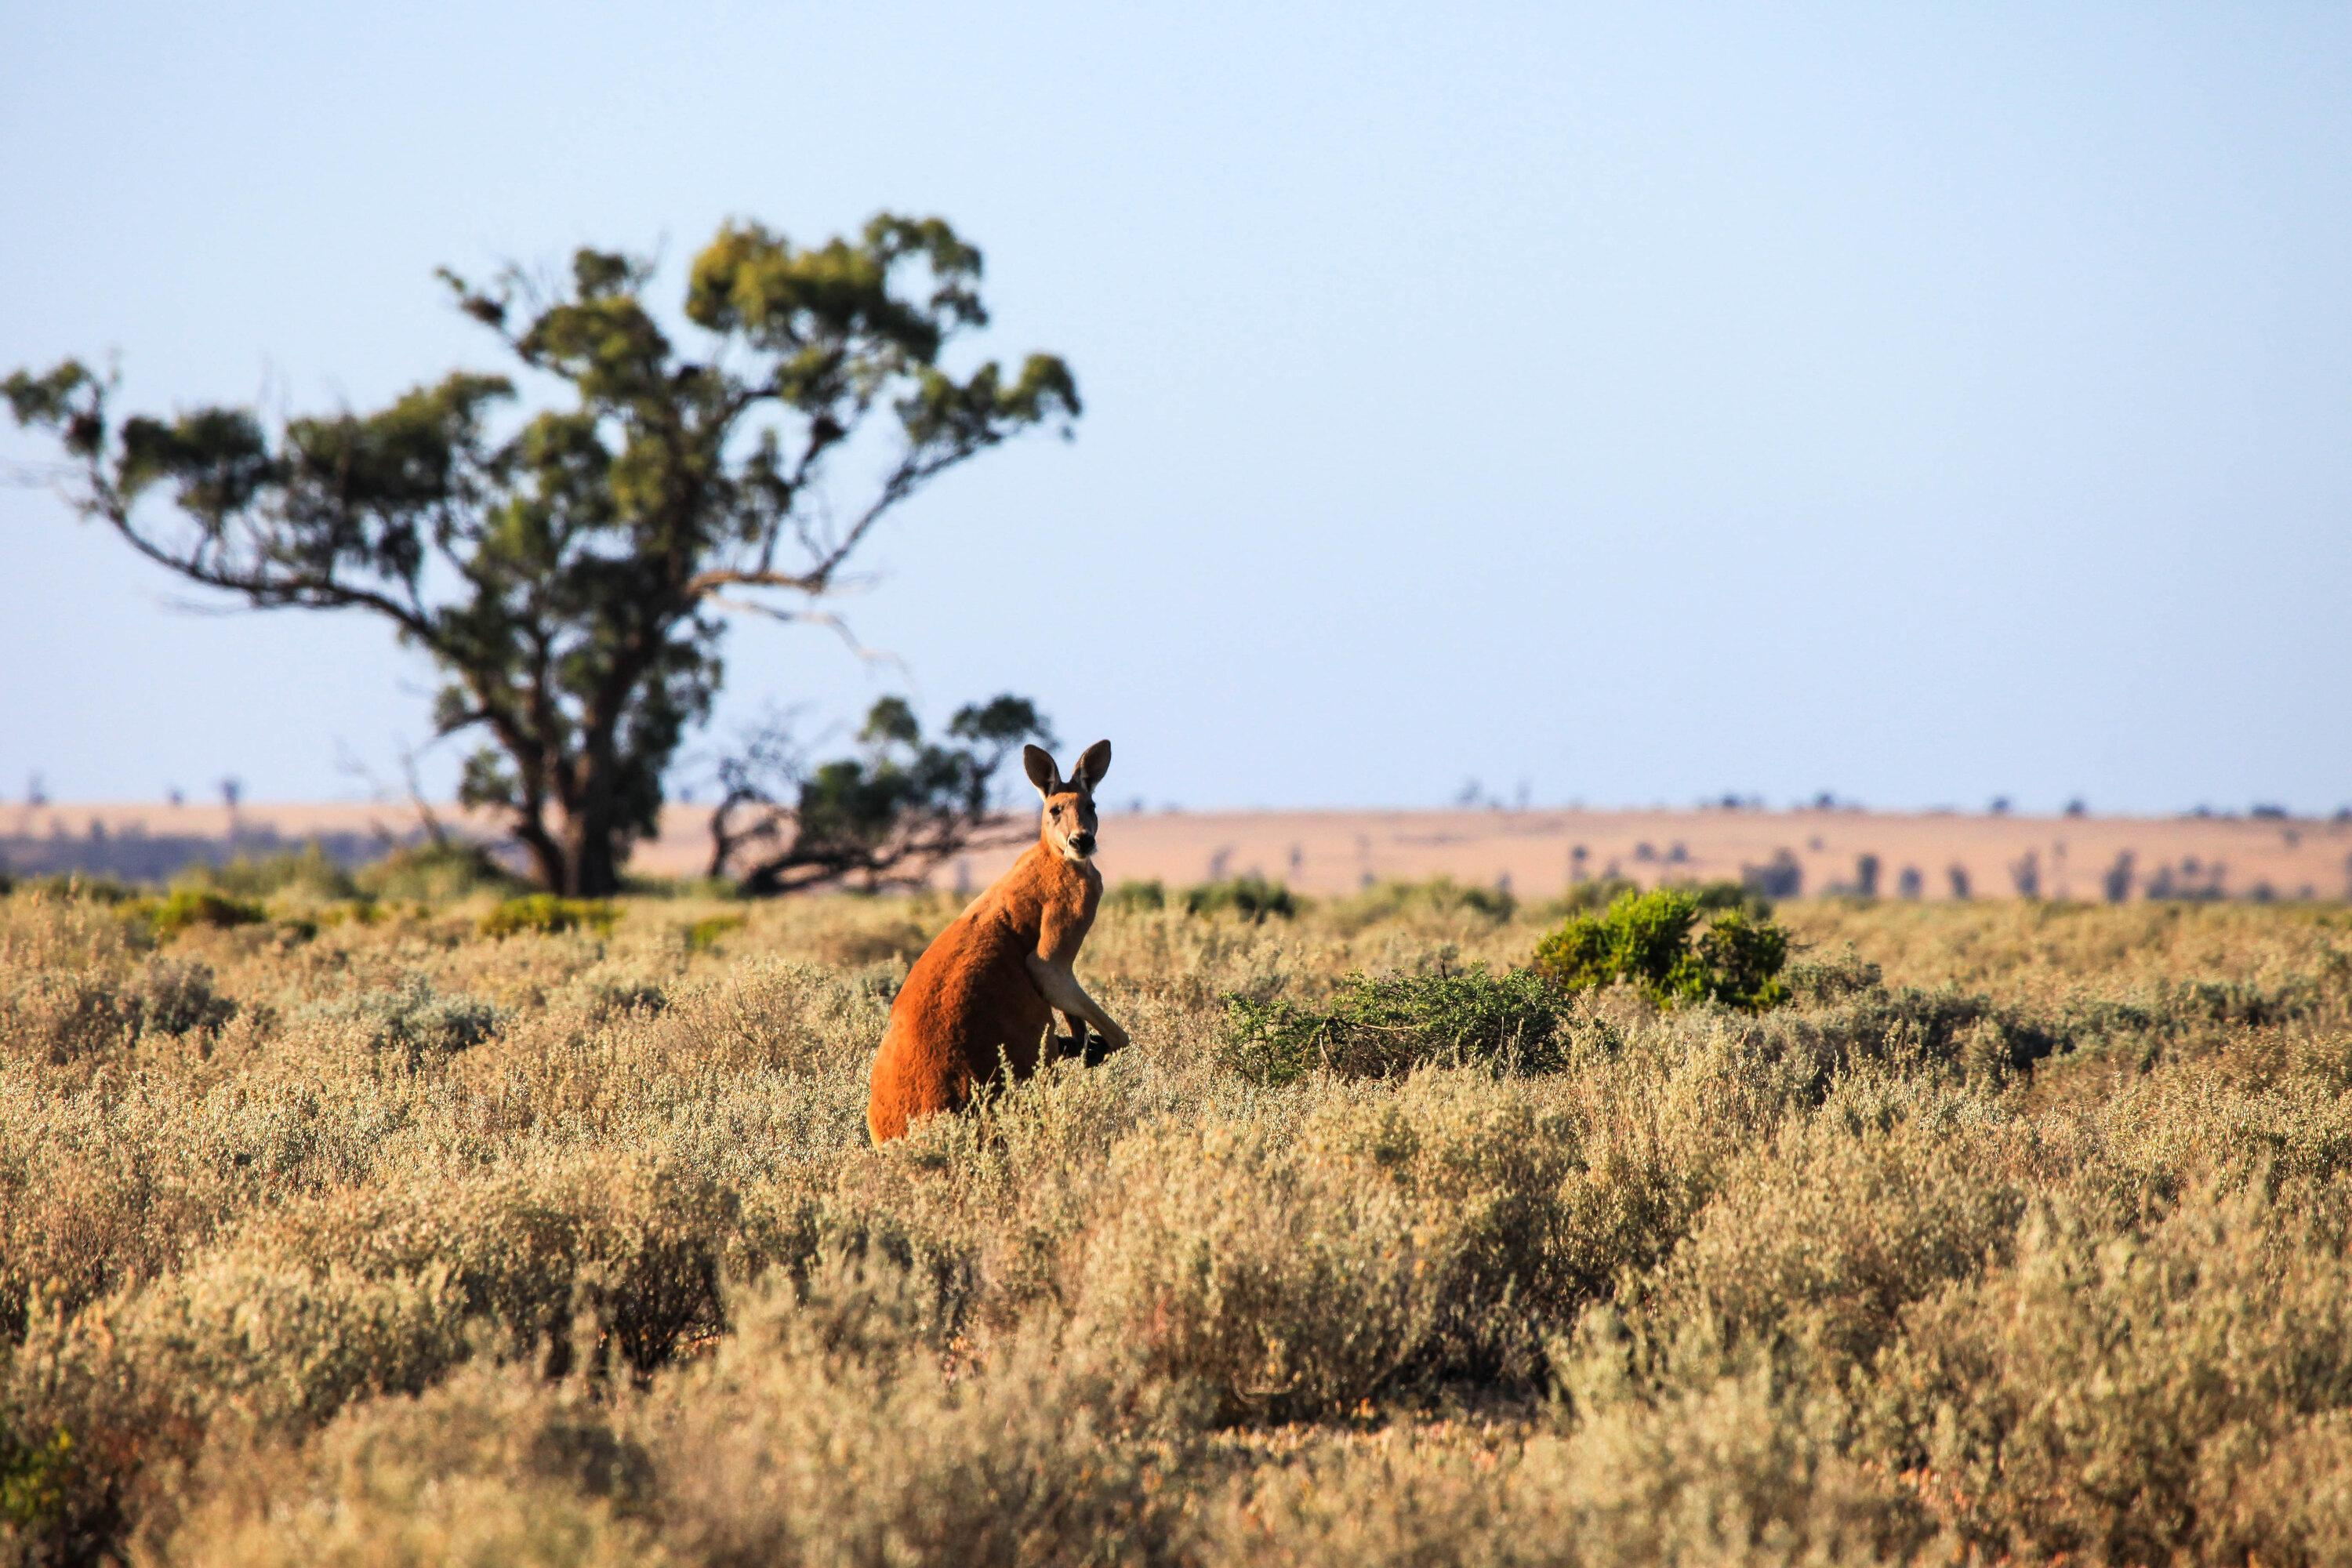Red kangaroo: (852, 742, 1123, 1183)
